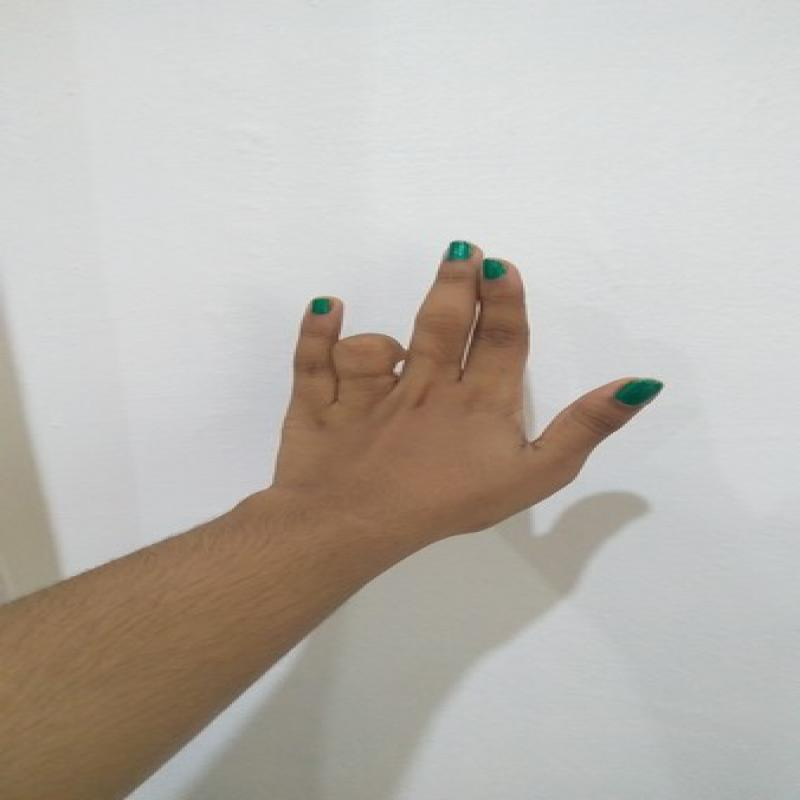Pathaaka: (270, 233, 670, 529)
